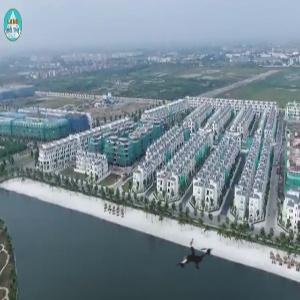drone: (158, 223, 228, 293)
